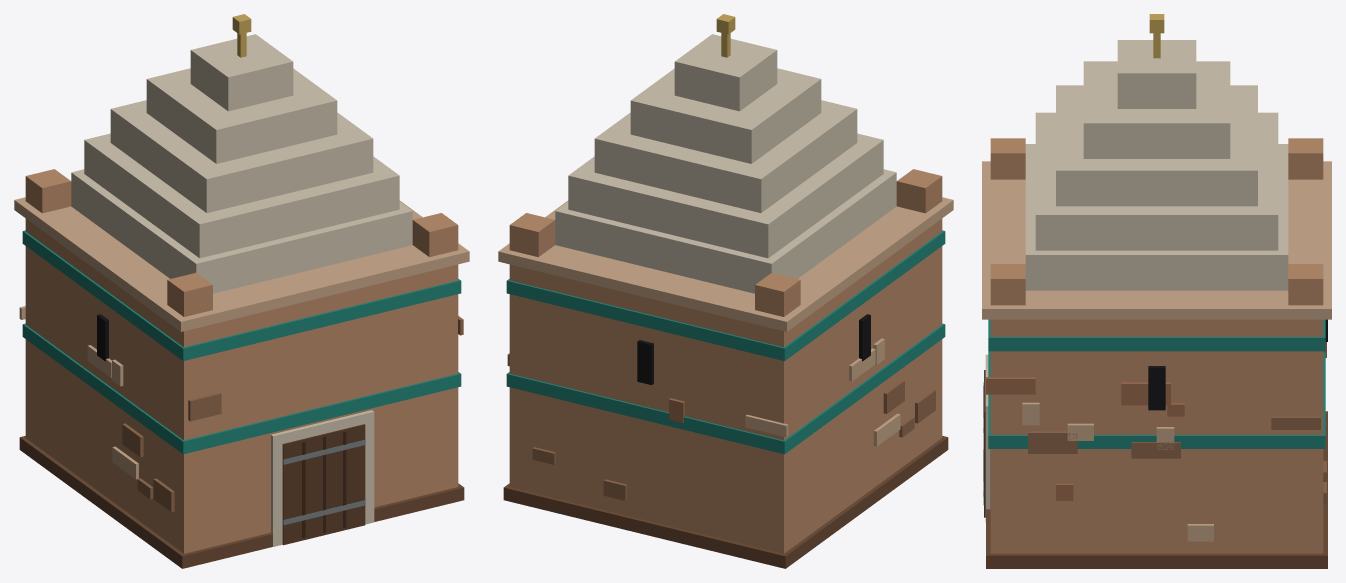
File: dd_solid_tower.glb
3 renders of one model, left to right at view 1: azimuth 30°, elevation 25°; view 2: azimuth 150°, elevation 25°; view 3: azimuth 270°, elevation 25°, orthographic. The views are drawn at different scales.
Parts seen in each view (by area): view 1: DUBG_dd_solid_tower; view 2: DUBG_dd_solid_tower; view 3: DUBG_dd_solid_tower.
Boxes of the visible parts, x1,y1,x2,y2 form: DUBG_dd_solid_tower: (14, 14, 469, 568); DUBG_dd_solid_tower: (498, 14, 953, 568); DUBG_dd_solid_tower: (982, 14, 1331, 568).
Bounding box in the file's own units: 12 × 18.15 × 12.
